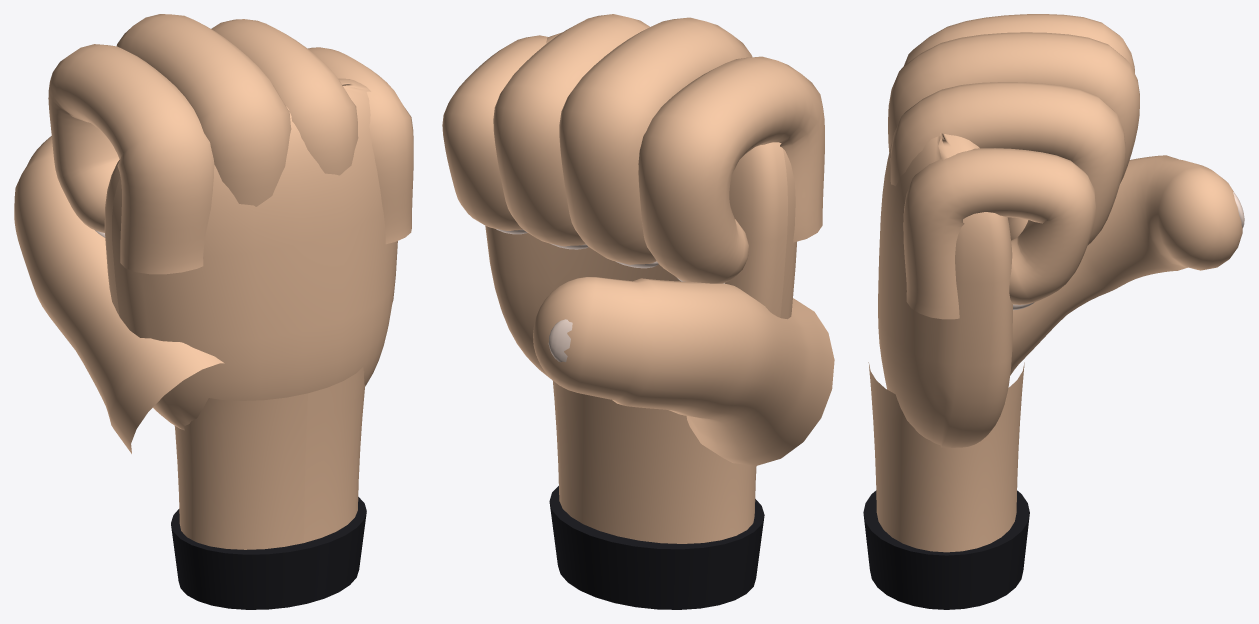
Rendered from hand-right-fist.glb.
3 views of the same model, side by side, from view 1: azimuth 30°, elevation 25°; view 2: azimuth 150°, elevation 25°; view 3: azimuth 270°, elevation 25° (orthographic). The views are drawn at different scales.
Parts seen in each view (by area): view 1: hand-right-fist; view 2: hand-right-fist; view 3: hand-right-fist.
Part boxes in pixels (bbox=[...]): hand-right-fist: bbox=[14, 14, 413, 609]; hand-right-fist: bbox=[442, 14, 834, 609]; hand-right-fist: bbox=[863, 14, 1244, 609].
Size of the model in its own units: 0.0863 by 0.1431 by 0.0957.
